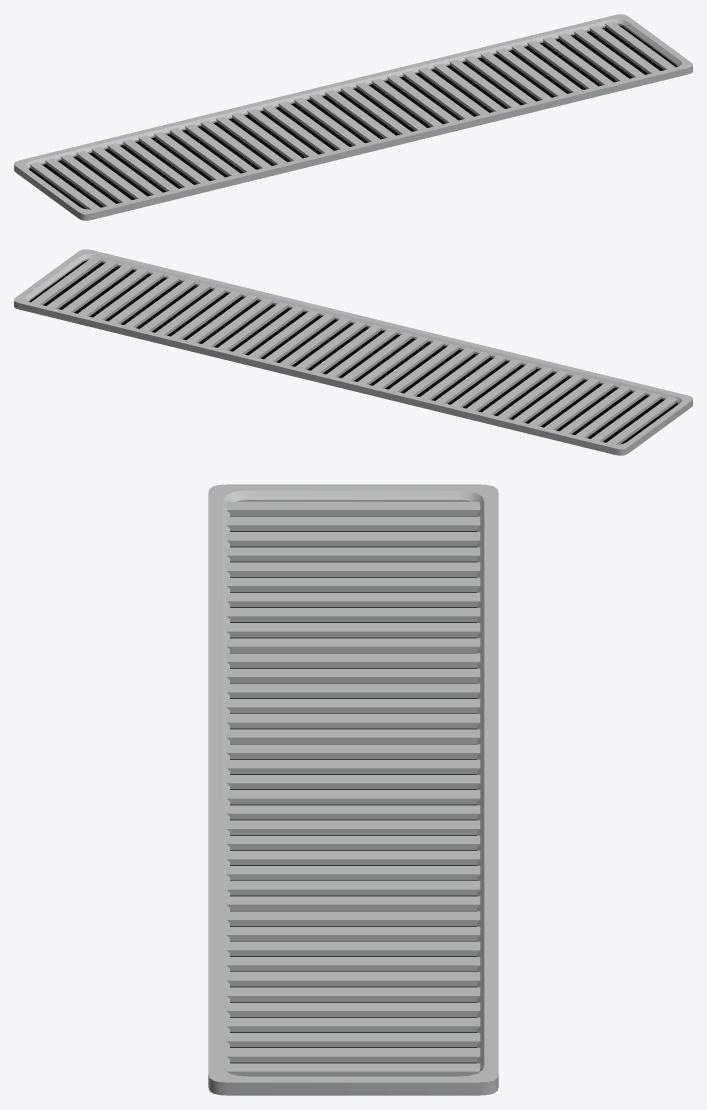
The model's file is Prop_Floor_Drain.fbx.
3 views of the same model, one above another, from view 1: azimuth 30°, elevation 25°; view 2: azimuth 150°, elevation 25°; view 3: azimuth 270°, elevation 25° (orthographic). The views are drawn at different scales.
Visible parts, largest first — view 1: Prop_Floor_Drain; view 2: Prop_Floor_Drain; view 3: Prop_Floor_Drain.
Boxes of the visible parts, x1,y1,x2,y2 form: Prop_Floor_Drain: (14, 14, 692, 220); Prop_Floor_Drain: (14, 249, 692, 455); Prop_Floor_Drain: (208, 484, 498, 1095).
Size of the model in its own units: 92.11 by 0.9325 by 18.89.
